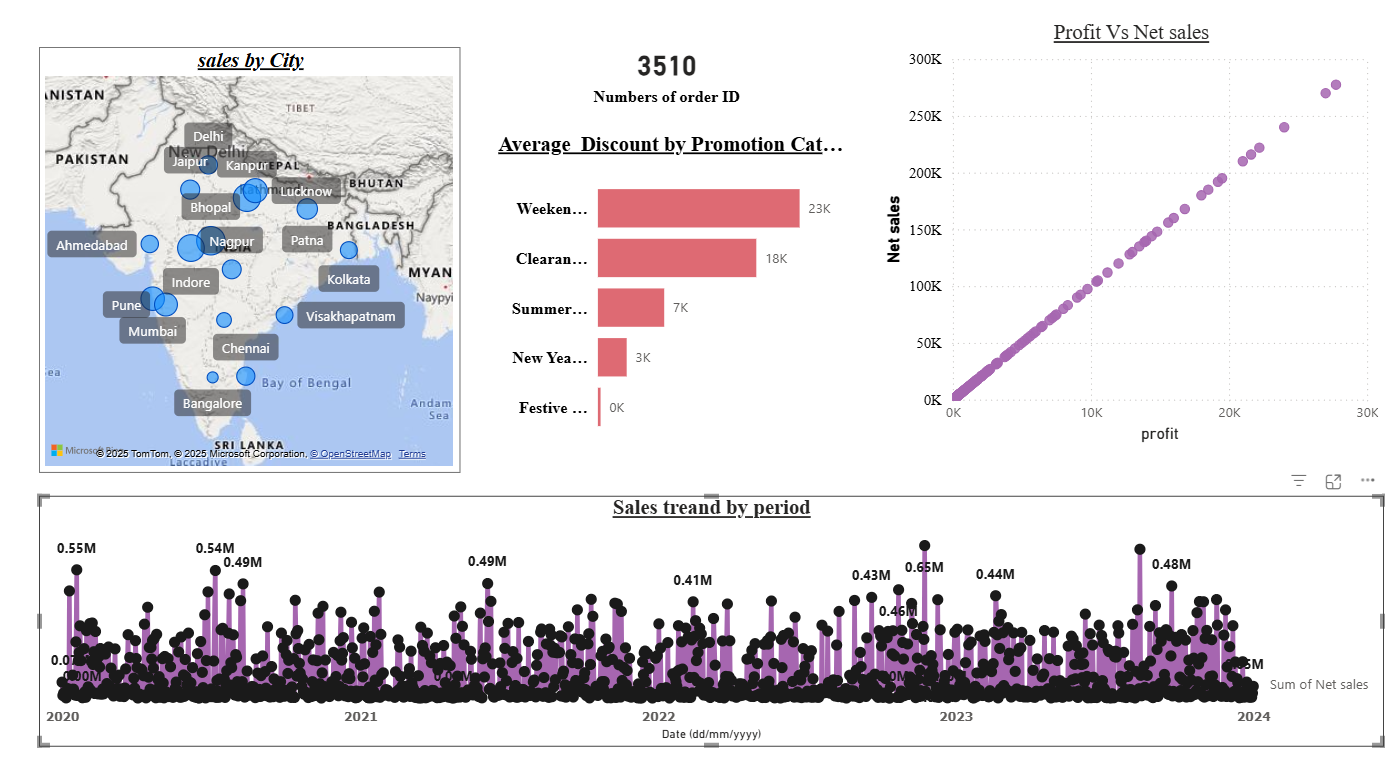

What the dashboard file says about the page in this screenshot:
{"tool":"powerbi","page":{"name":"overview","canvas":[1280,720],"ordinal":1},"visuals":[{"type":"lineChart","title":"Sales treand by period","fields":{"Category":["fact table.Date (dd/mm/yyyy).Variation.Date Hierarchy.Year"],"Y":["Sum(fact table.Net sales)"]},"box":[49.4,454.2,1213,226.4],"z":0},{"type":"scatterChart","title":"Profit Vs Net sales","fields":{"X":["fact table.profit"],"Y":["fact table.Net sales"]},"box":[807.3,26.1,455.3,385.6],"z":1000},{"type":"barChart","title":"Average  Discount by Promotion Categories","fields":{"Y":["Avg(fact table.Discount)"],"Category":["Dim Promotion.Promotion Name"]},"box":[458.3,126.2,328,289.5],"z":2000},{"type":"map","title":"sales by City","fields":{"Category":["Dim Customers.City"],"Size":["Sum(fact table.Net sales)"]},"box":[49.4,49.4,380.1,384.2],"z":3000},{"type":"card","fields":{"Values":["CountNonNull(fact table.order ID)"]},"box":[458.6,25.7,314.3,95.7],"z":4000}]}

Visuals, with their boxes in screenshot pixels (x1, y1, x2, y2), scaled from the page's 1280x720 canvas onto the 1390x774 screenshot:
"Sales treand by period" lineChart: [54,488,1371,732]
"Profit Vs Net sales" scatterChart: [877,28,1371,443]
"Average  Discount by Promotion Categories" barChart: [498,136,854,447]
"sales by City" map: [54,53,466,466]
card - CountNonNull(fact table.order ID): [498,28,839,131]
